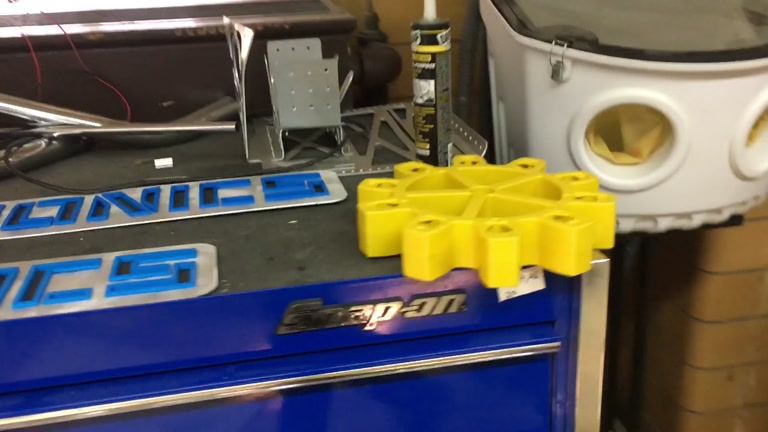gear: (357, 153, 619, 288)
